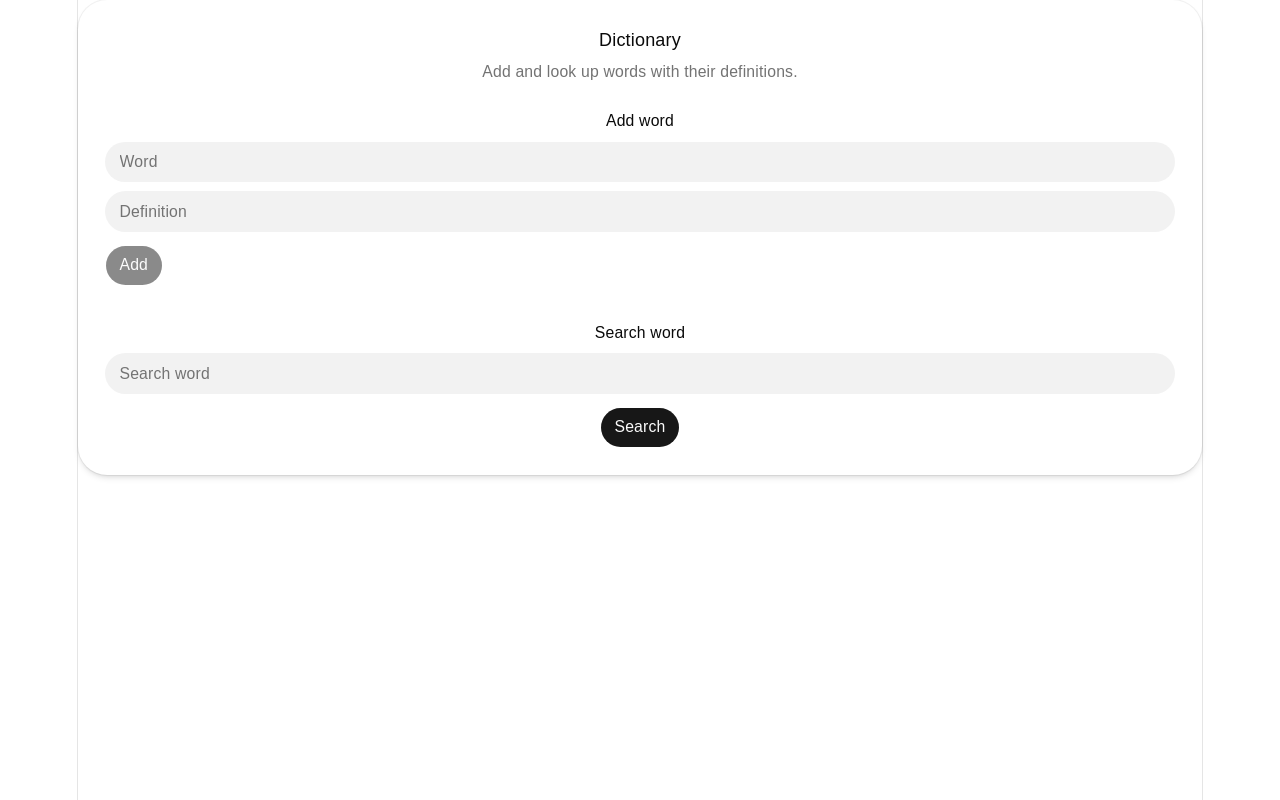
Test: DictionaryChallenge › shows not found when a word is missing
Type "Banana" into the field with placeholder "Search word" at (640, 374), box [105,353,1175,394]
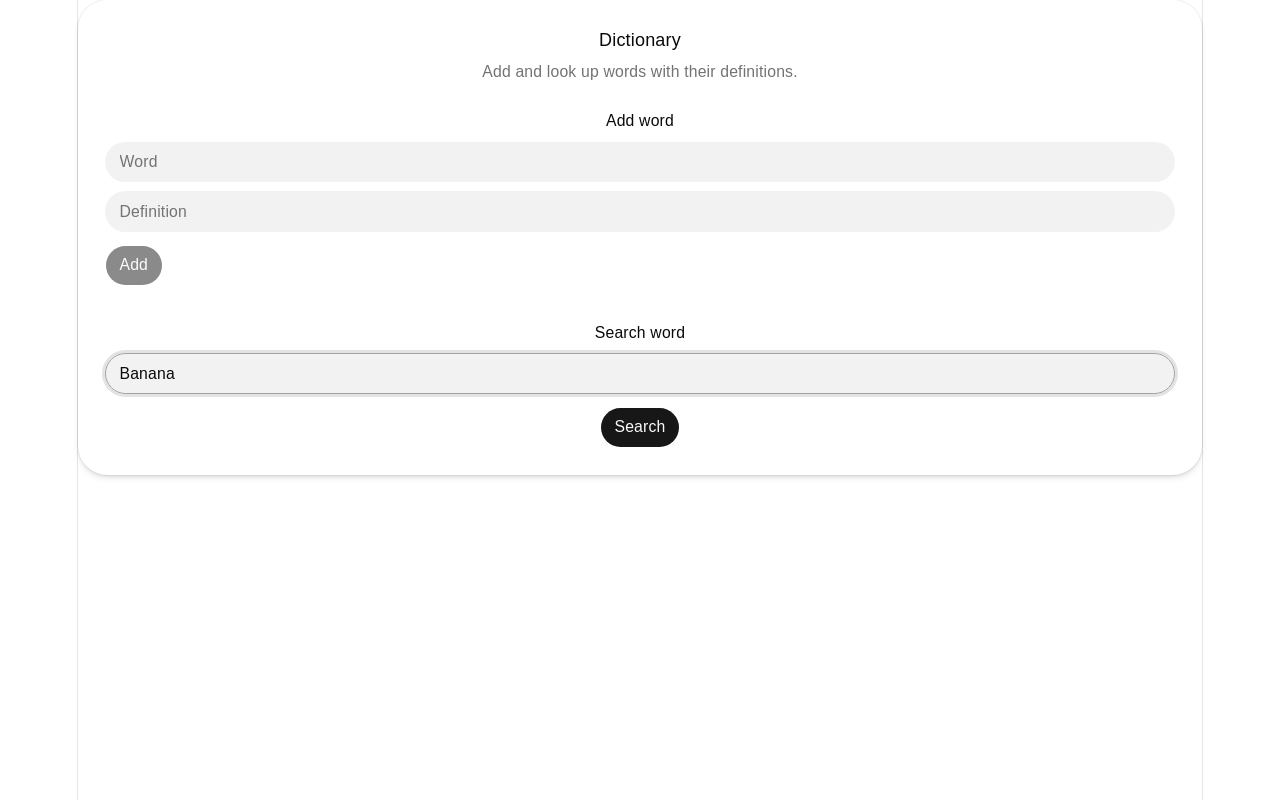
Click the button "Search" at (640, 428), box [600,407,680,448]
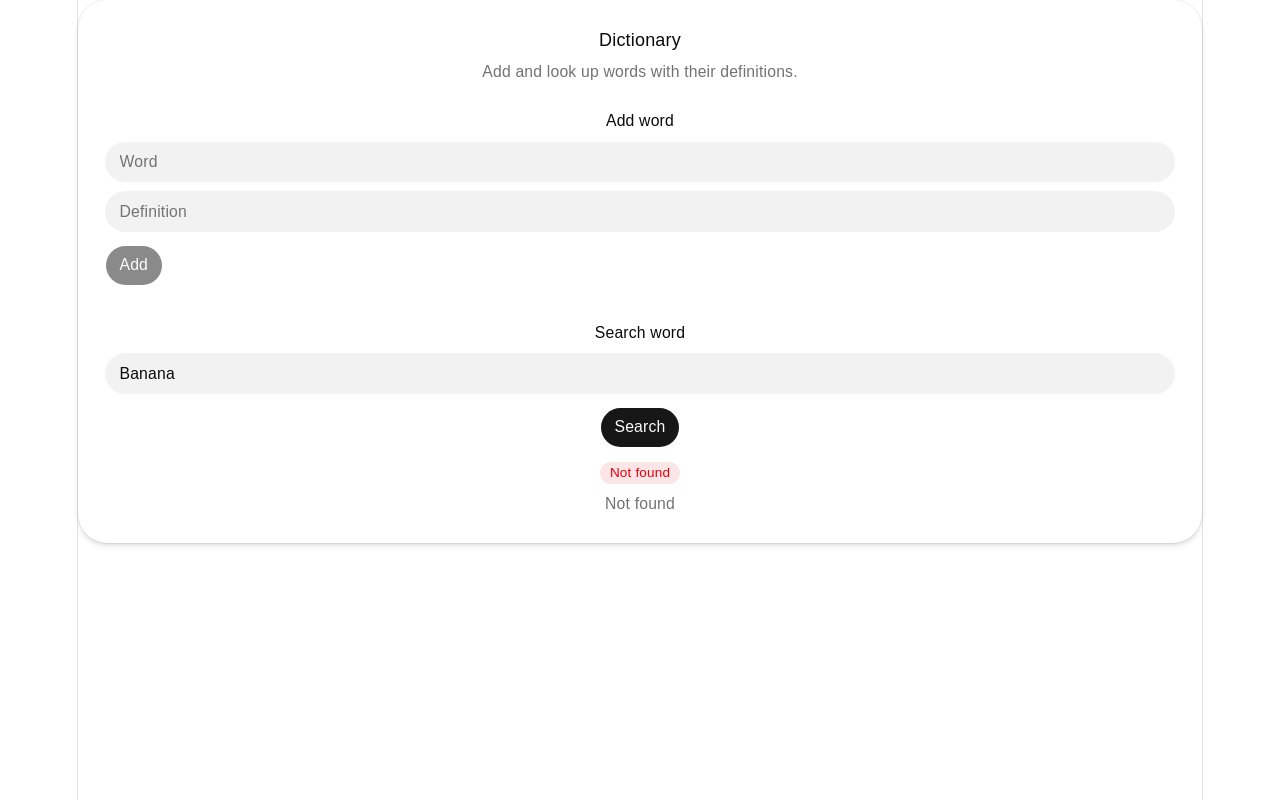
Expected: the 1st text "Not found" is shown, [600,462,680,484]
